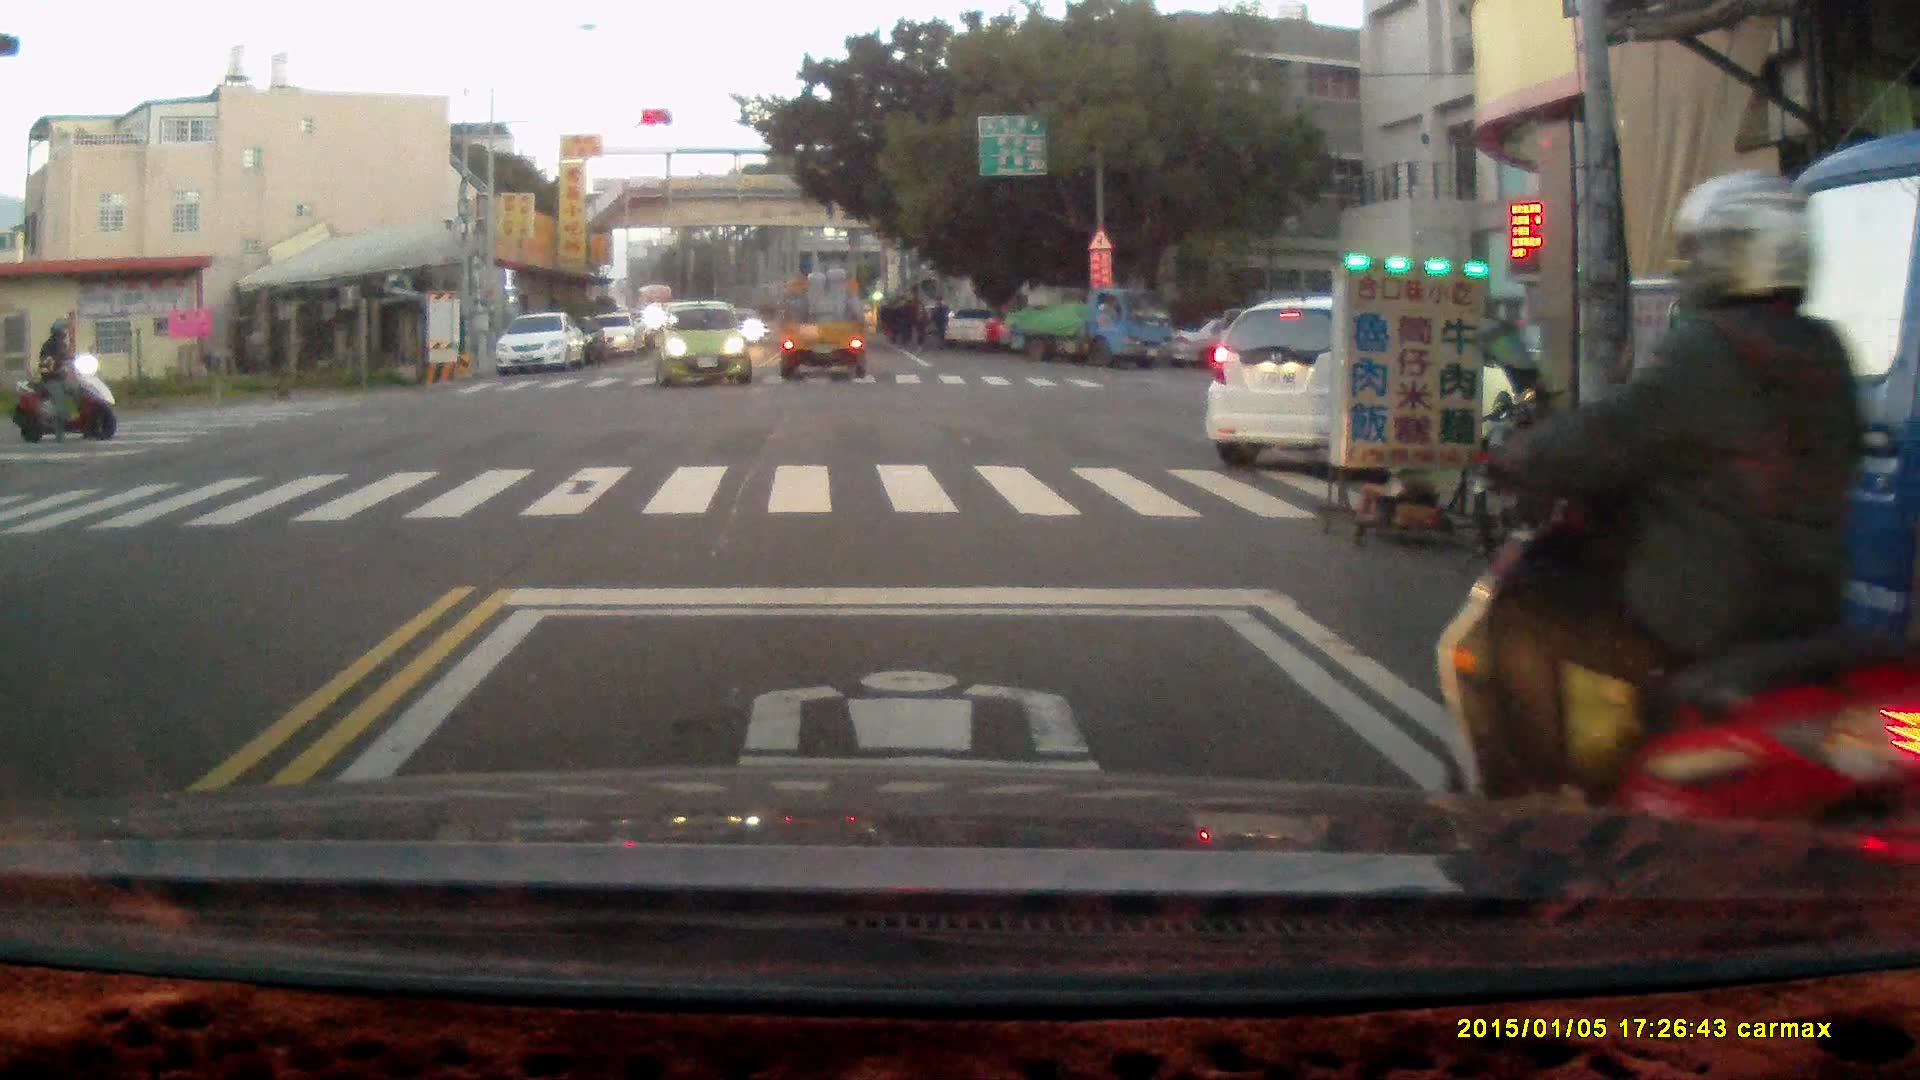rider: (1426, 166, 1920, 943), (10, 316, 119, 440)
vehicle: (1599, 132, 1920, 916), (1204, 293, 1517, 466), (1002, 284, 1174, 367), (780, 260, 872, 383), (660, 297, 761, 390), (499, 313, 587, 378), (592, 311, 642, 360)
